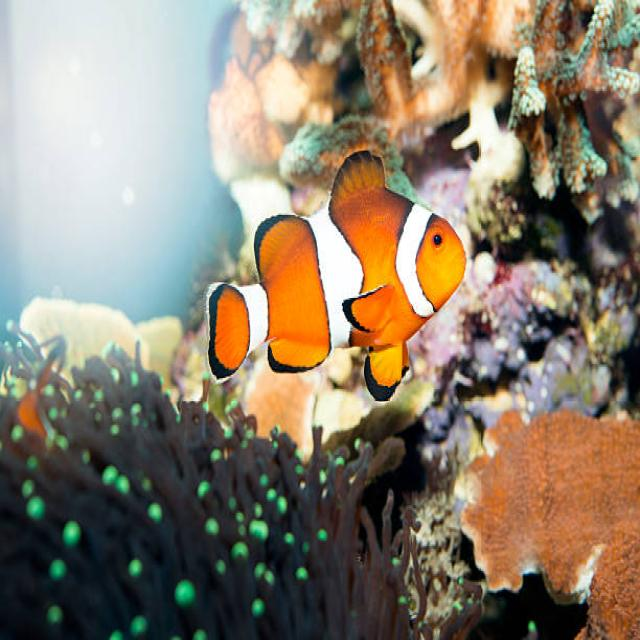ClownFish: (205, 149, 468, 411)
